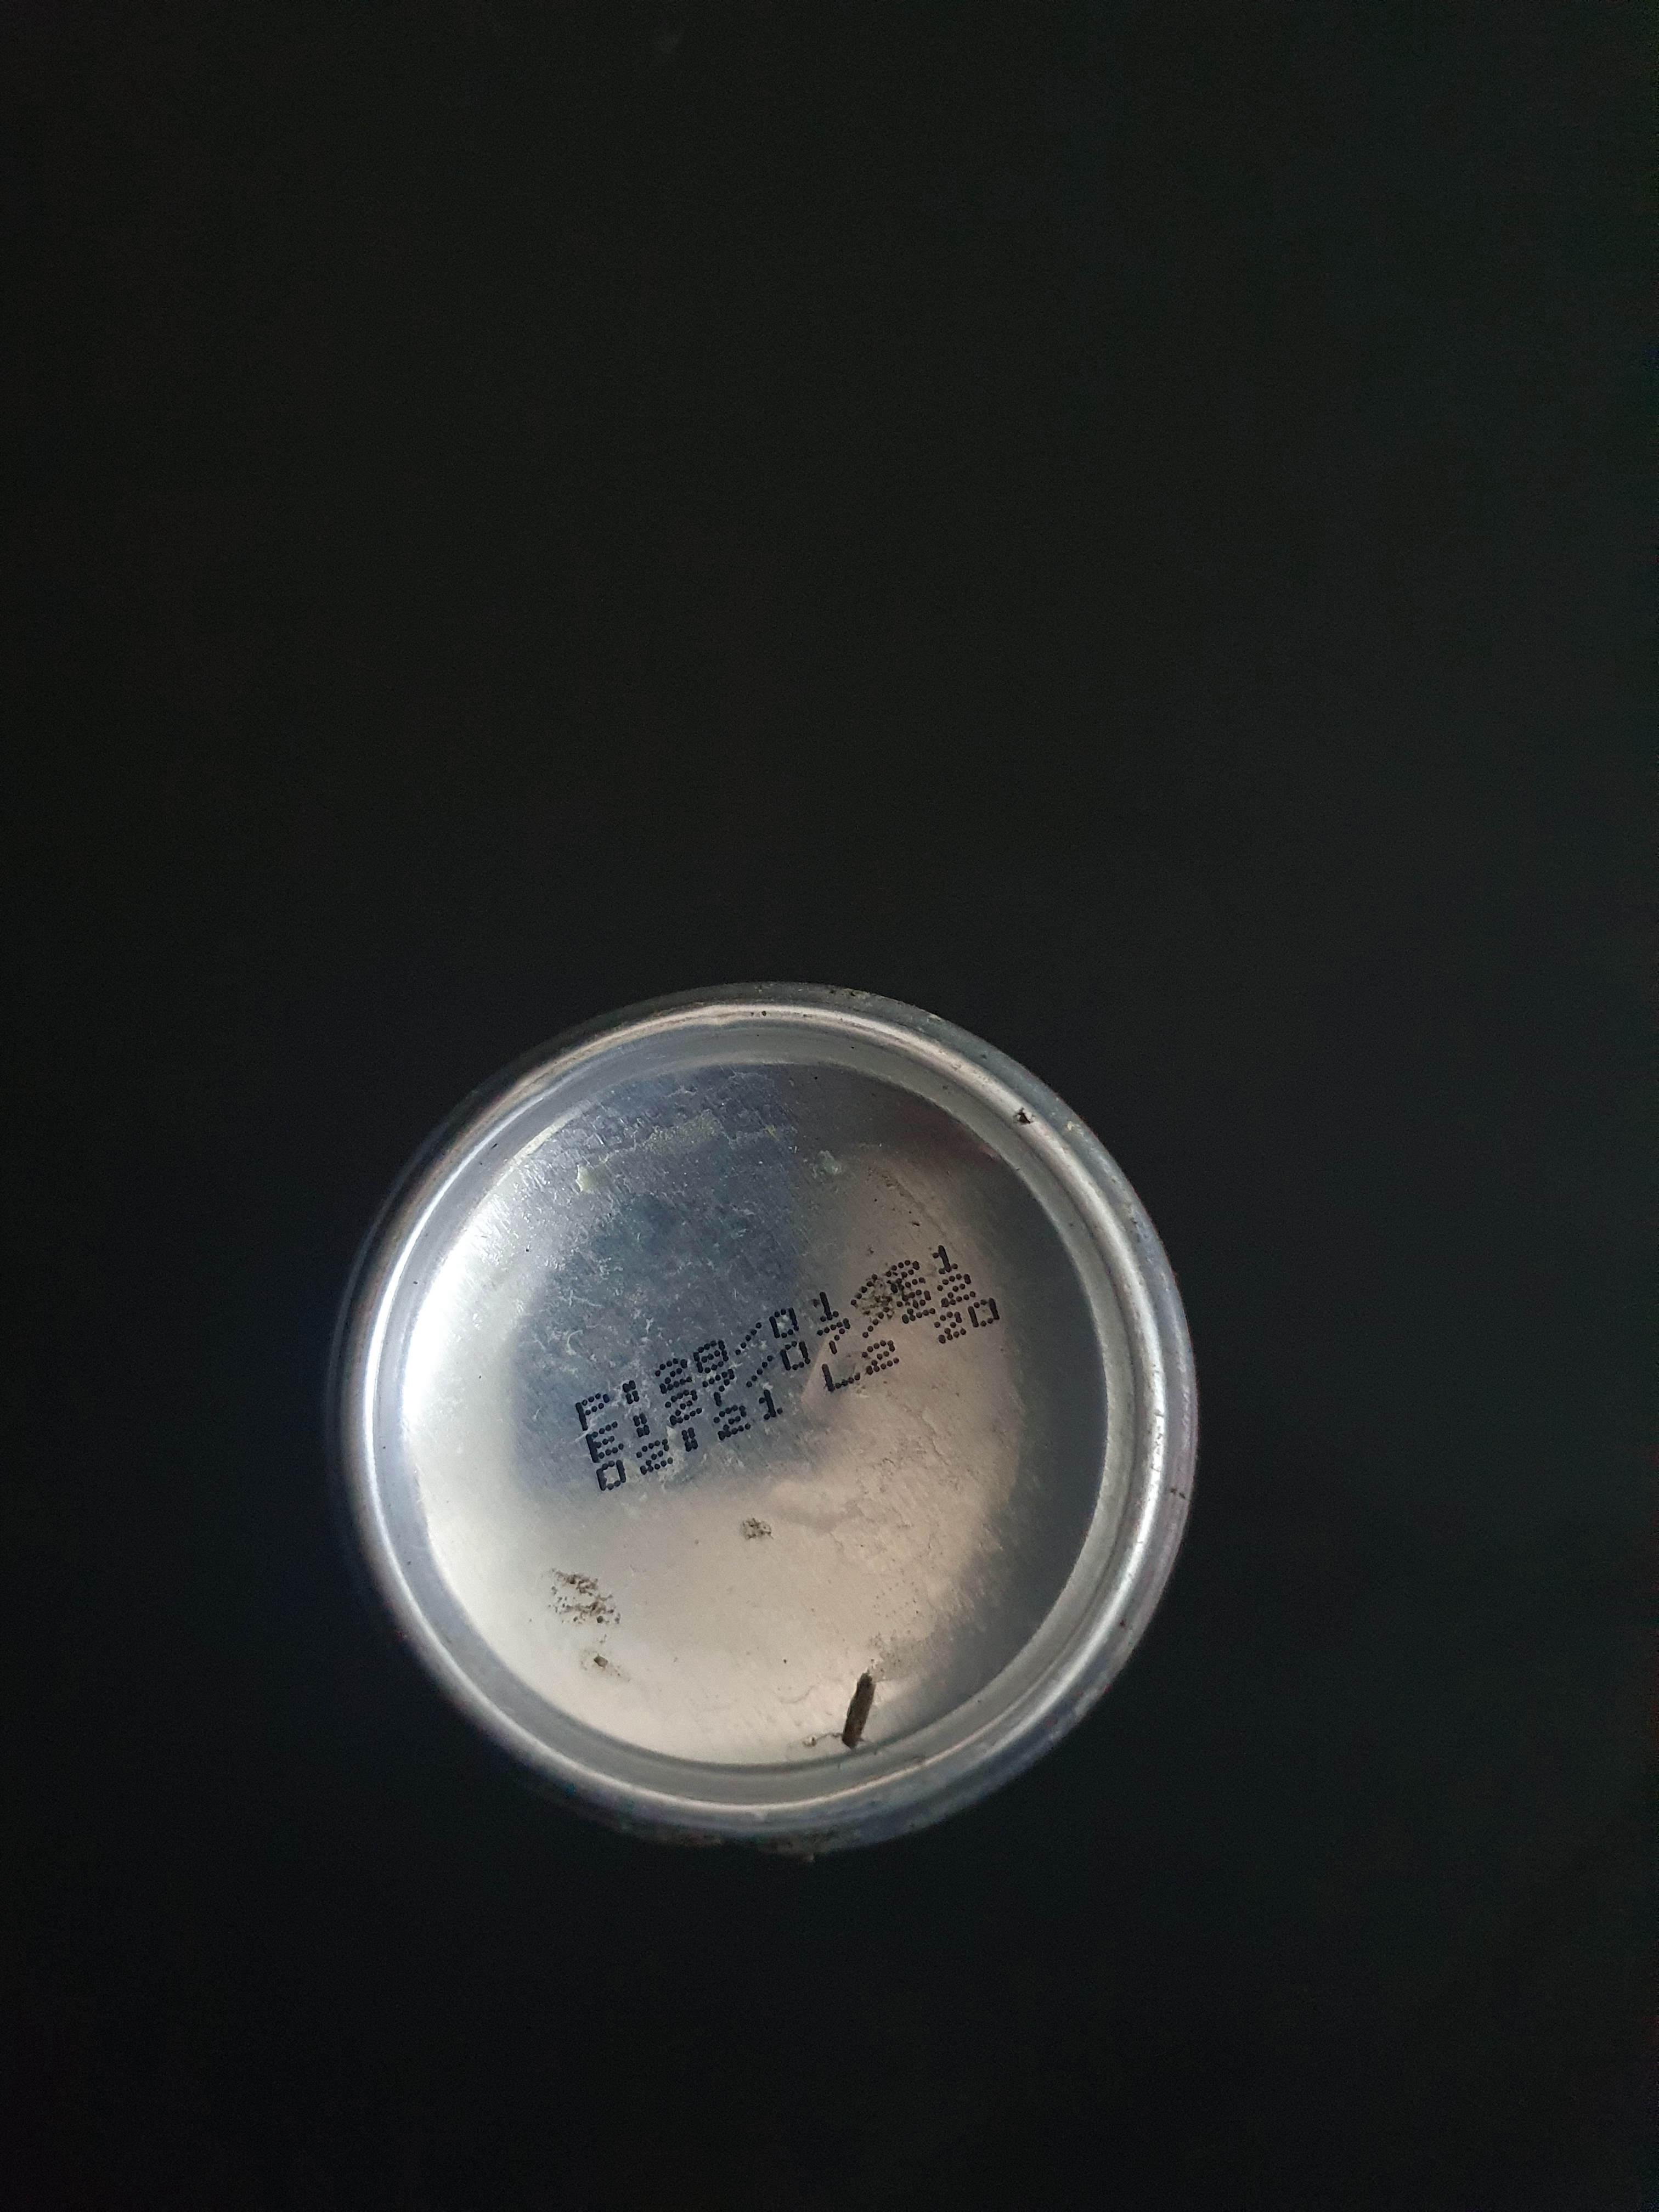metal: (301, 927, 1237, 1905)
